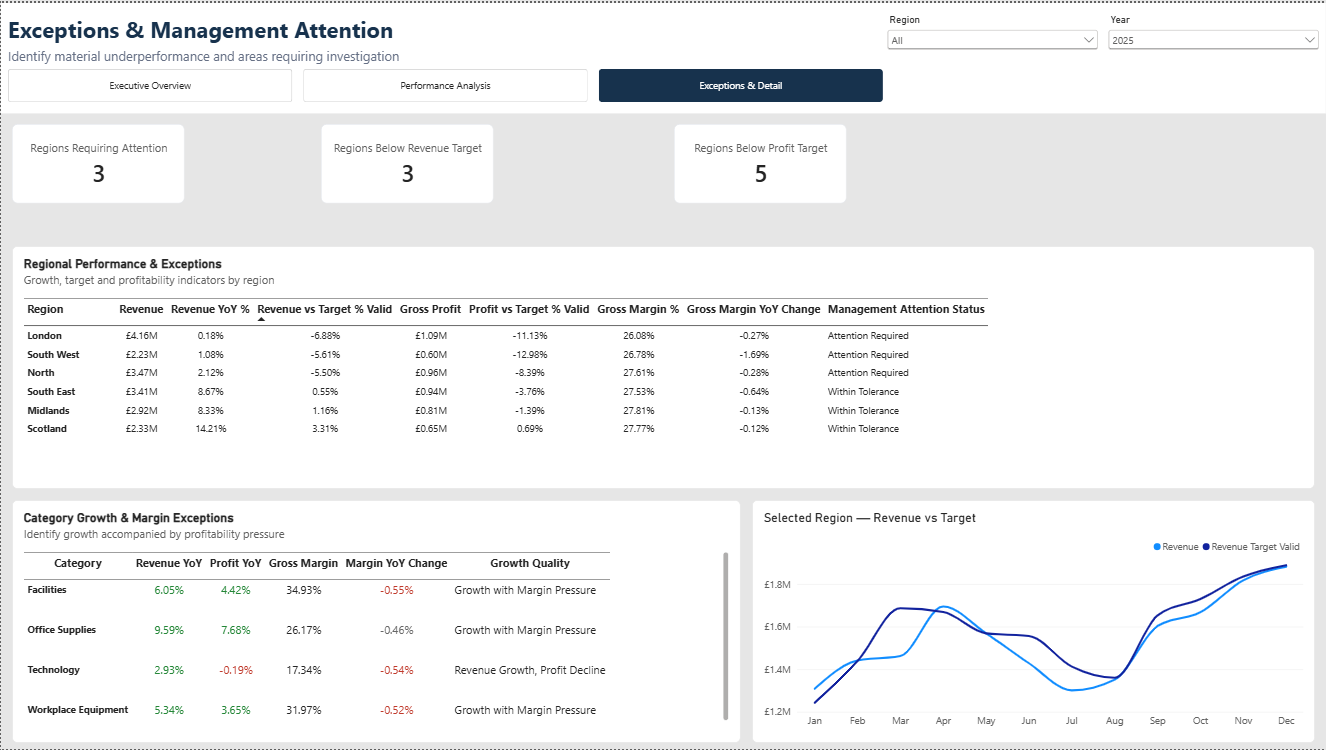

The dashboard page shown, as its layout file describes it:
{"tool":"powerbi","page":{"name":"Exceptions & Detail","canvas":[1920,1080],"ordinal":2},"visuals":[{"type":"shape","box":[0,0,1920,160],"z":0},{"type":"cardVisual","fields":{"Data":["_Measures.Regions Below Profit Target"]},"box":[976,176,250,115],"z":1000},{"type":"textbox","box":[10,16,1270,48],"z":2000},{"type":"textbox","box":[10,64,1270,32],"z":3000},{"type":"slicer","fields":{"Values":["DimDate.Year"]},"box":[1600,16,315,65],"z":4000},{"type":"slicer","fields":{"Values":["DimRegion.Region"]},"box":[1280,16,315,65],"z":5000},{"type":"pageNavigator","box":[10,96,1270,48],"z":6000},{"type":"cardVisual","fields":{"Data":["_Measures.Regions Requiring Attention"]},"box":[16,176,250,115],"z":7000},{"type":"cardVisual","fields":{"Data":["_Measures.Regions Below Revenue Target"]},"box":[464,176,250,115],"z":8000},{"type":"pivotTable","title":"Regional Performance & Exceptions","fields":{"Rows":["DimRegion.Region"],"Values":["_Measures.Revenue","_Measures.Revenue YoY %","_Measures.Revenue vs Target % Valid","_Measures.Gross Profit","_Measures.Profit vs Target % Valid","_Measures.Gross Margin %","_Measures.Gross Margin YoY Change","_Measures.Management Attention Status"]},"box":[16,352,1888,352],"z":9000},{"type":"pivotTable","title":"Category Growth & Margin Exceptions","fields":{"Rows":["DimProduct.Category"],"Values":["_Measures.Revenue YoY %","_Measures.Gross Profit YoY %","_Measures.Gross Margin %","_Measures.Gross Margin YoY Change","_Measures.Growth Quality"]},"box":[16,720,1056,352],"z":10000},{"type":"lineChart","title":"Selected Region — Revenue vs Target","fields":{"Category":["DimDate.MonthShort"],"Y":["_Measures.Revenue","_Measures.Revenue Target Valid"]},"box":[1088,720,816,352],"z":11000}]}

Visuals, with their boxes in screenshot pixels (x1, y1, x2, y2), scaled from the page's 1920x1080 canvas onto the 1326x750 screenshot:
shape: select_region(0, 0, 1325, 111)
cardVisual - _Measures.Regions Below Profit Target: select_region(674, 122, 847, 202)
textbox: select_region(7, 11, 884, 44)
textbox: select_region(7, 44, 884, 67)
slicer - DimDate.Year: select_region(1105, 11, 1323, 56)
slicer - DimRegion.Region: select_region(884, 11, 1102, 56)
pageNavigator: select_region(7, 67, 884, 100)
cardVisual - _Measures.Regions Requiring Attention: select_region(11, 122, 184, 202)
cardVisual - _Measures.Regions Below Revenue Target: select_region(320, 122, 493, 202)
"Regional Performance & Exceptions" pivotTable: select_region(11, 244, 1315, 489)
"Category Growth & Margin Exceptions" pivotTable: select_region(11, 500, 740, 744)
"Selected Region — Revenue vs Target" lineChart: select_region(751, 500, 1315, 744)
